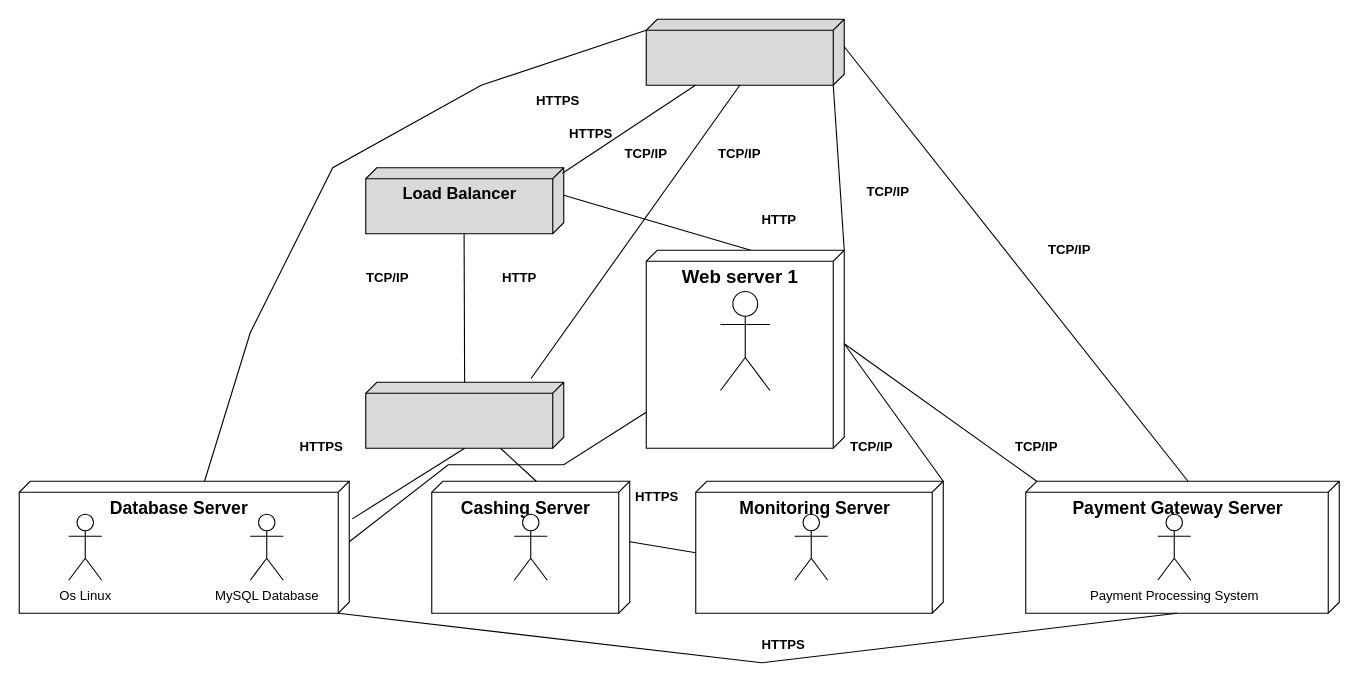
The diagram is 1359 pixels wide and 683 high, and some of its shapes have lost their labels. The centre of each missing label's shape, as x and y in pixels:
"Firewall" goes at pixel 744 51.
"Monitoring System" goes at pixel 811 546.
"Redis Cache" goes at pixel 530 546.
"Web Application" goes at pixel 744 340.
"Web server 2" goes at pixel 464 414.
